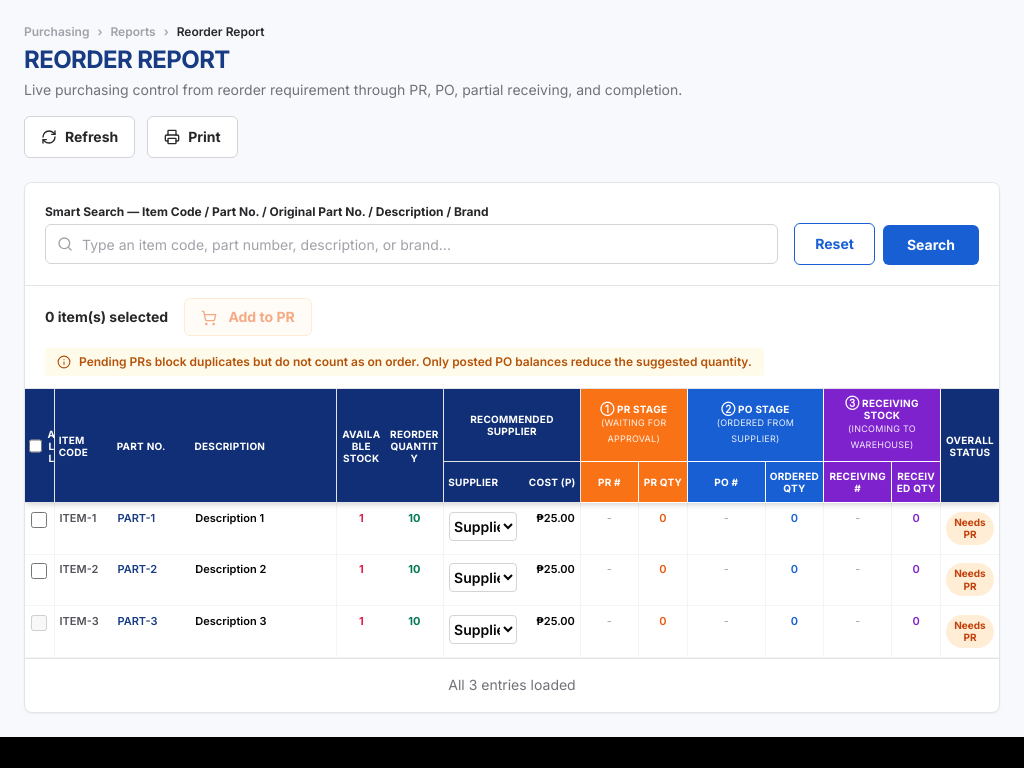
ReorderReport automatic loading › creates one PR from multiple eligible items and blocks an item already in workflow
Check: the text "ITEM-3" is shown, box [54,606,113,657]
Check: the checkbox titled "This item already has an active purchasing workflow" is disabled, box [31,615,47,631]
What coordinates should you click on to do the following:
click the checkbox labelled "ALL"
I would click on:
 (36, 446)
Its box is [29,438,42,454].
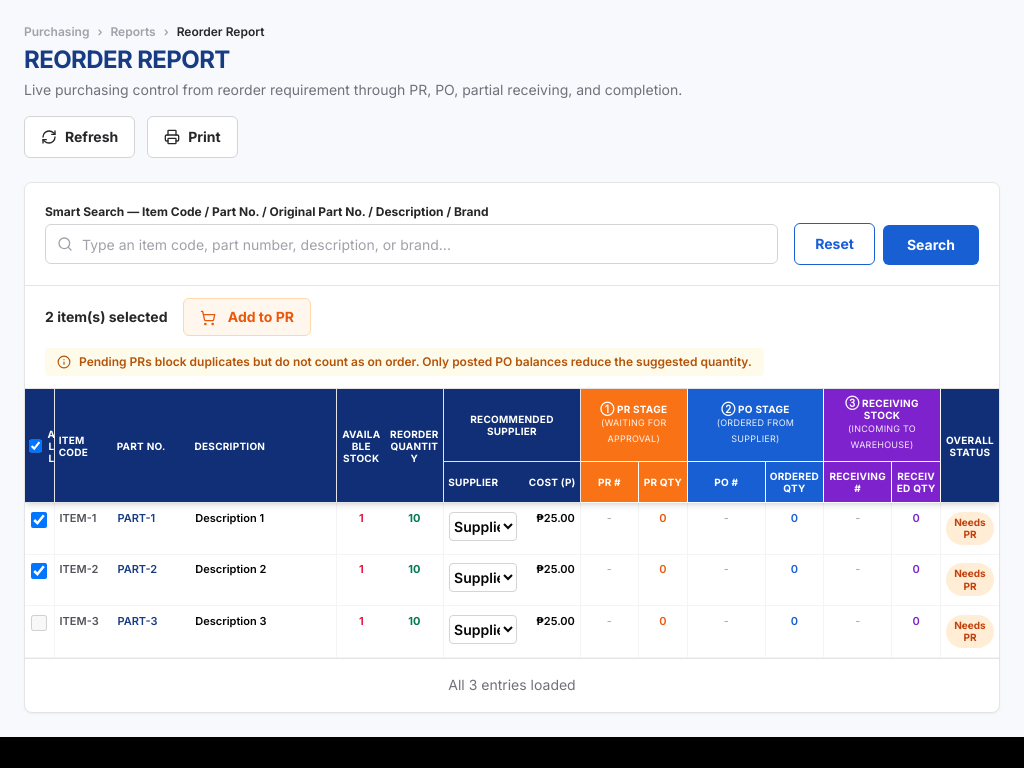
What coordinates should you click on to do the following:
click the button "Add to PR"
I would click on:
 (247, 317)
Its box is [184,298,311,336].
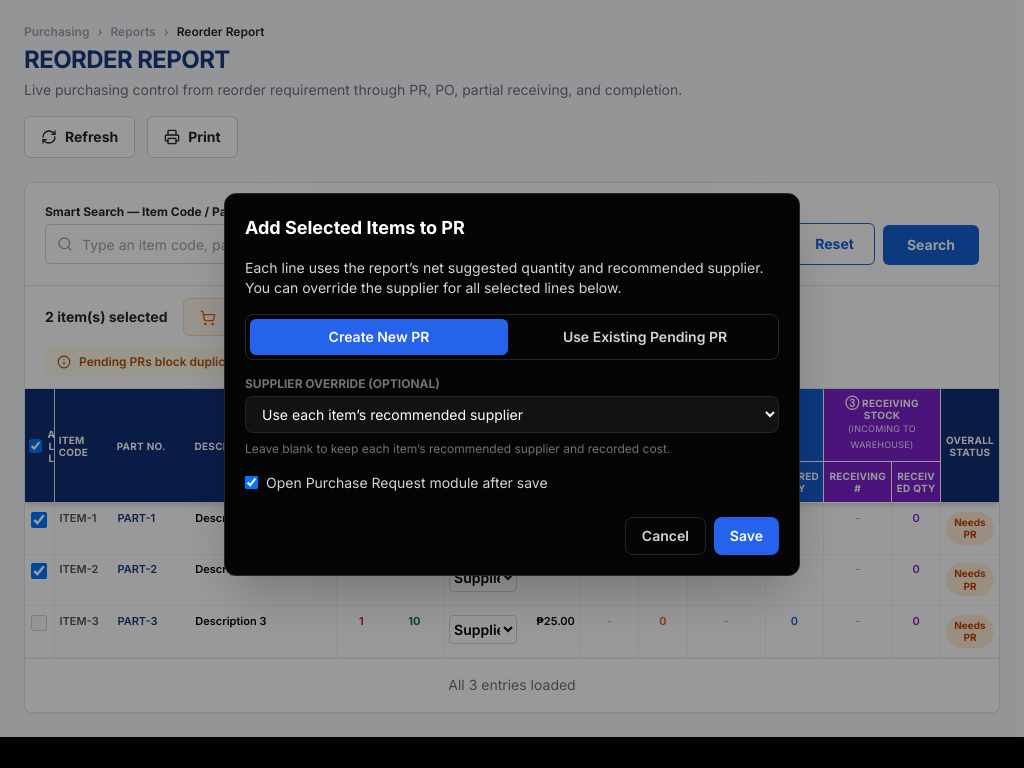
Check: the text "Each line uses the report’s net suggested quantity and recommended supplier. You can override the supplier for all selec" is shown, box [245,258,764,296]
Check: the button "Save" is enabled
What coordinates should you click on to do the following:
click the button "Save"
I would click on:
 (746, 536)
Its box is [714,516,779,554].
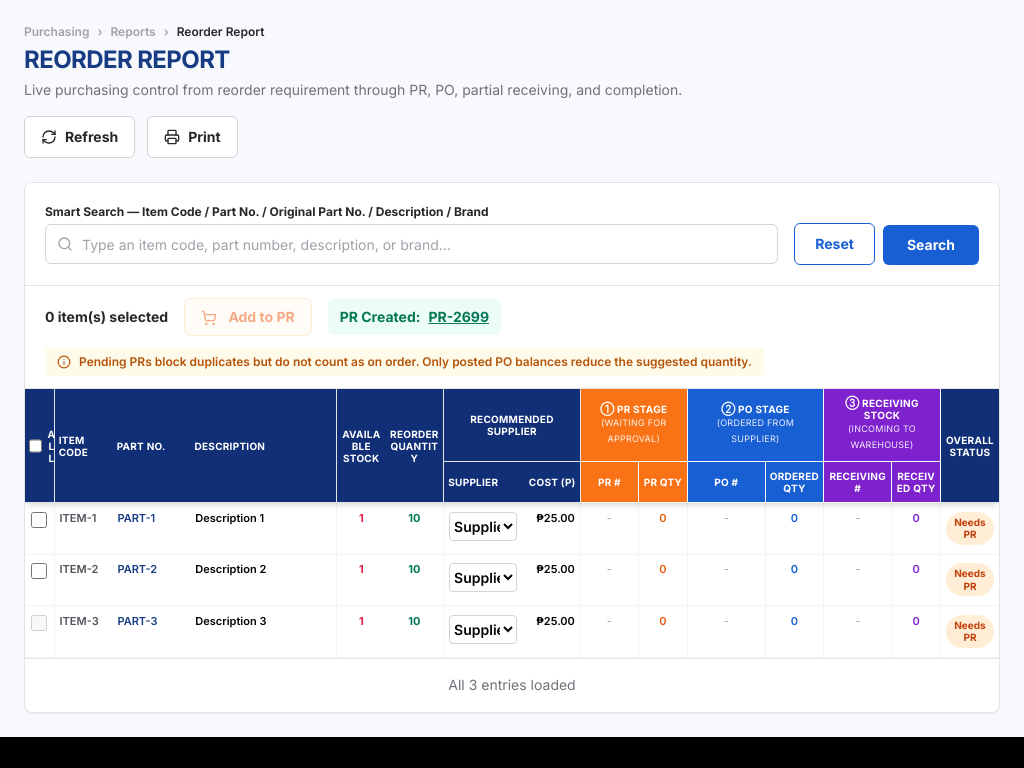
Check: the text "PR-2699" is shown, box [428,307,489,327]
Check: the text "PR Created:" is shown, box [340,307,420,327]
